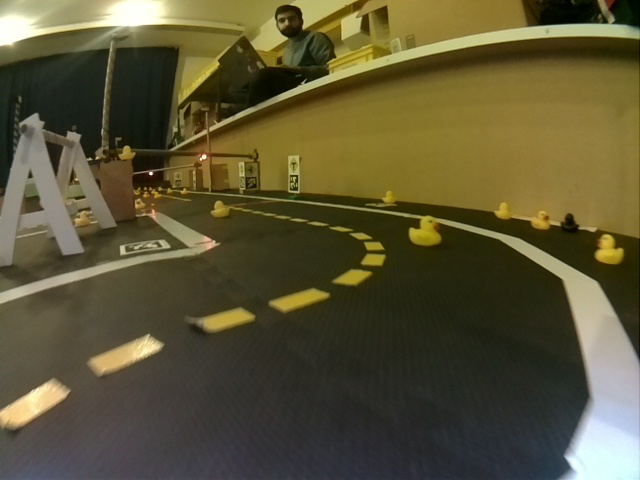Duckie: (409, 217, 442, 246), (595, 234, 622, 264), (533, 211, 550, 230), (494, 203, 511, 219), (212, 201, 228, 218), (383, 191, 394, 203), (118, 147, 130, 158), (135, 199, 145, 208), (180, 187, 189, 197)
Intersection sign: (289, 157, 298, 173)
QR code: (120, 239, 171, 254), (289, 177, 299, 191), (246, 177, 257, 187)
Traffic light: (198, 154, 208, 163)
